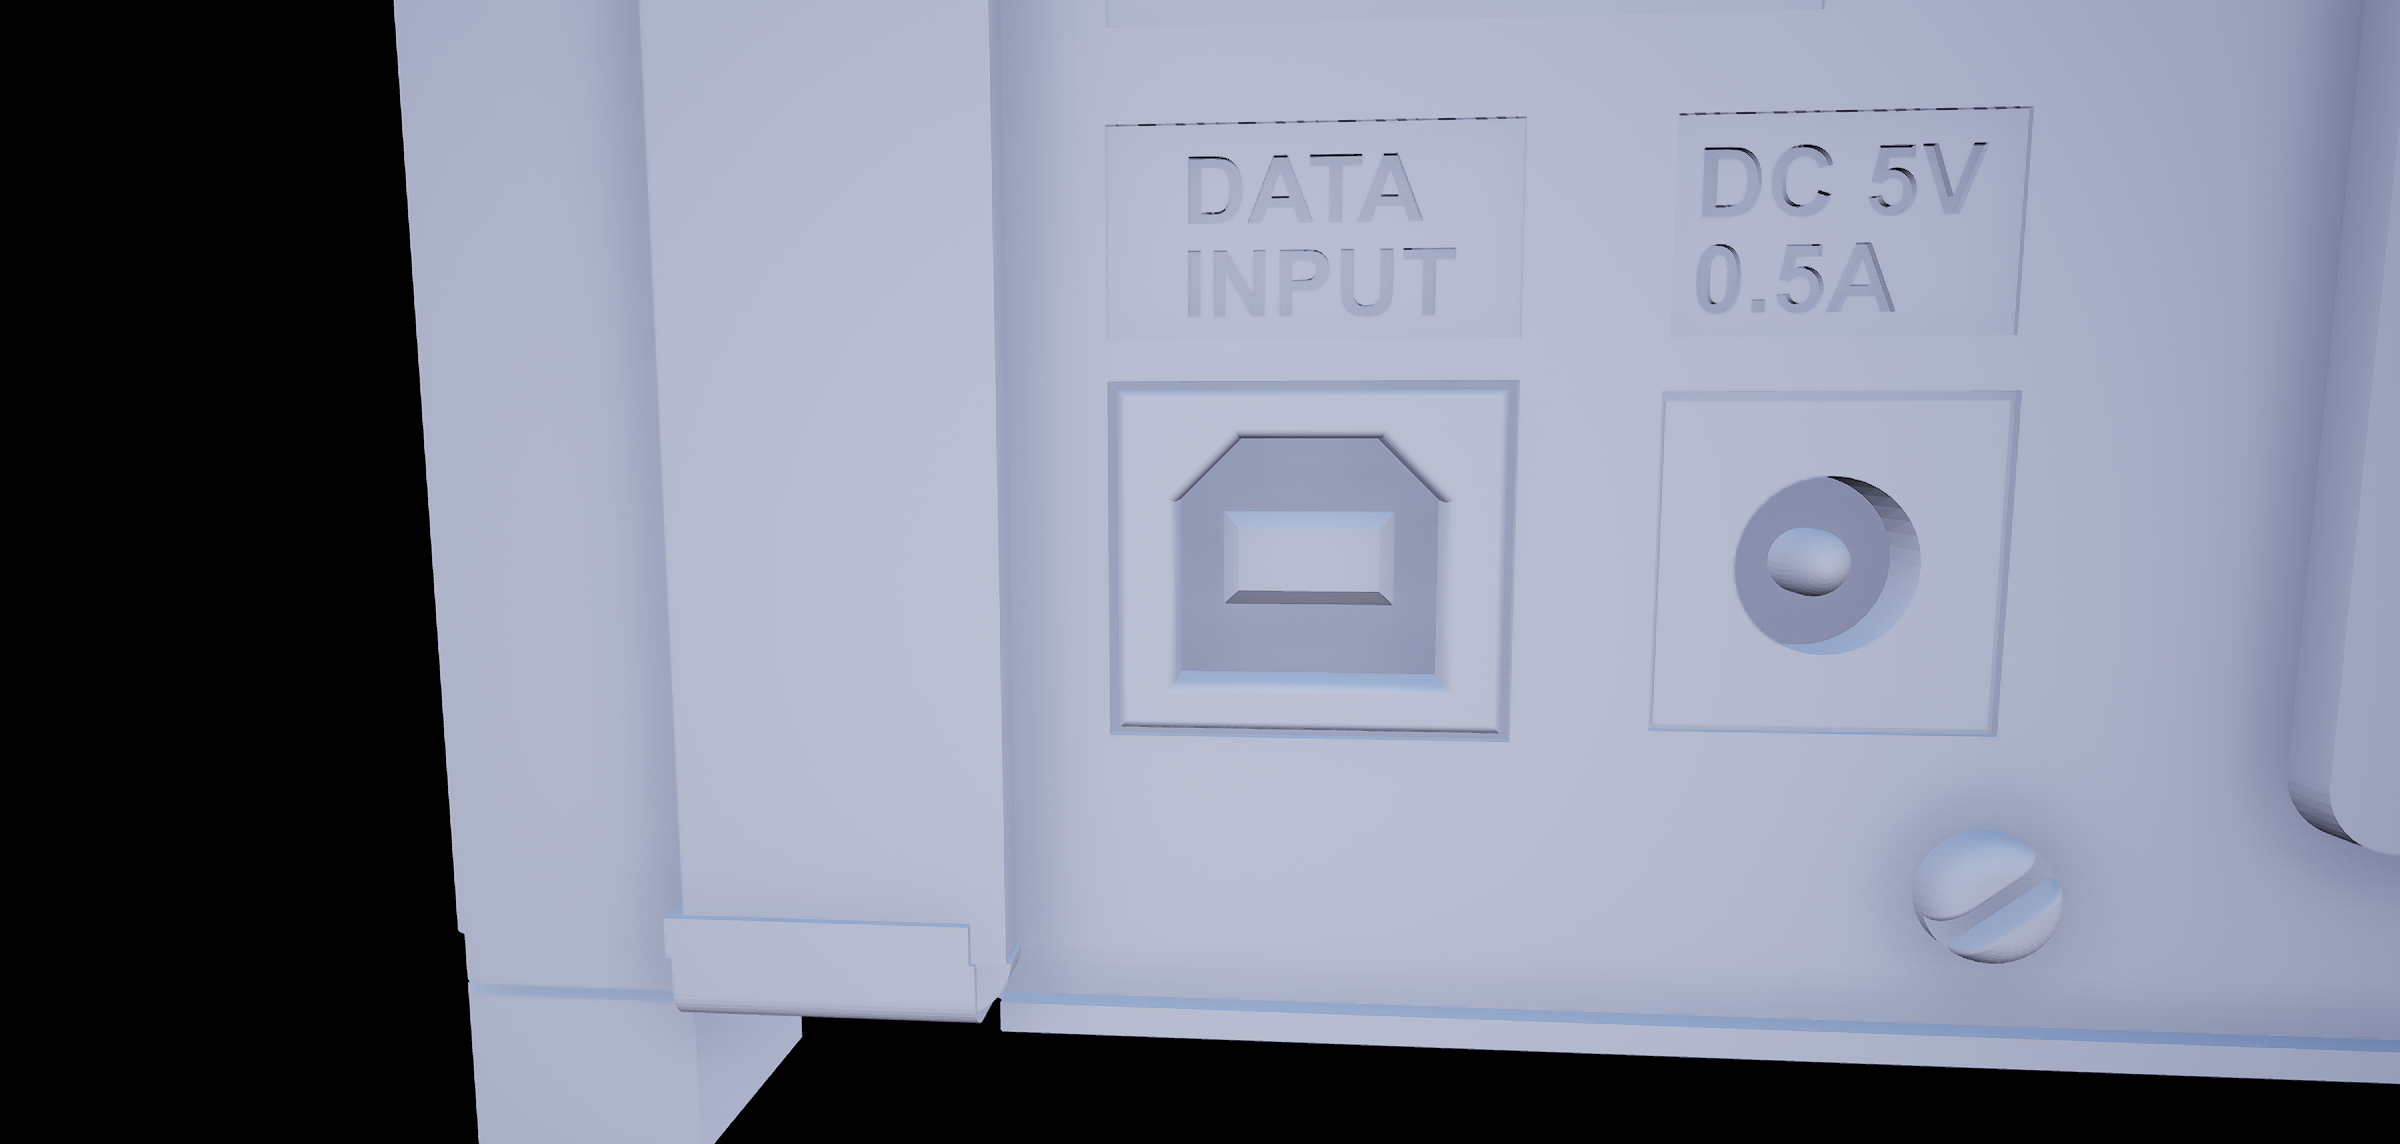dc: (1710, 463, 1932, 675)
usb: (1159, 415, 1472, 708)
